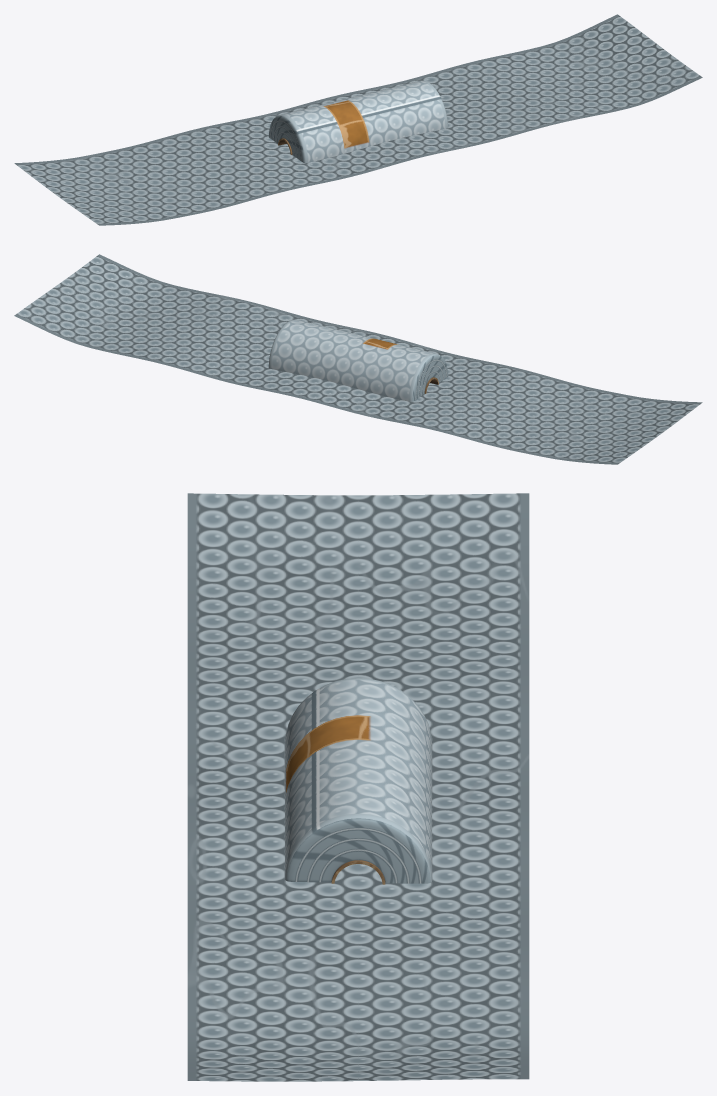
Rendered from BubbleWrap.fbx.
3 renders of one model, top to bottom at view 1: azimuth 30°, elevation 25°; view 2: azimuth 150°, elevation 25°; view 3: azimuth 270°, elevation 25°, orthographic. The views are drawn at different scales.
Parts seen in each view (by area): view 1: BubbleSheet, BubbleWrap; view 2: BubbleSheet, BubbleWrap; view 3: BubbleSheet, BubbleWrap.
Boxes of the visible parts, x1,y1,x2,y2 form: BubbleSheet: (14,14,702,225); BubbleWrap: (268,80,448,162); BubbleSheet: (14,254,702,464); BubbleWrap: (268,319,448,401); BubbleSheet: (187,493,529,1081); BubbleWrap: (284,678,432,884).
Bounding box in the file's own units: 7.35 × 0.78 × 1.8.
Materials: 1 (1 with a texture image).
